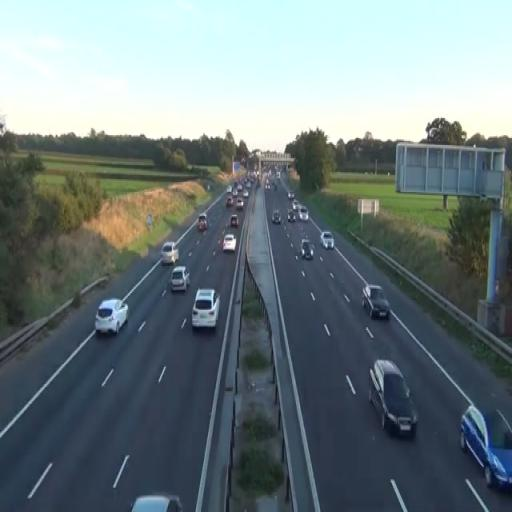Car: (460, 404, 512, 492), (368, 358, 418, 438), (94, 297, 129, 337), (192, 287, 220, 330), (361, 284, 391, 320), (170, 266, 190, 293), (160, 241, 179, 265), (300, 238, 314, 261), (222, 233, 237, 253), (320, 230, 334, 250), (198, 212, 208, 232), (272, 208, 282, 224), (299, 206, 309, 222), (230, 214, 239, 227)
